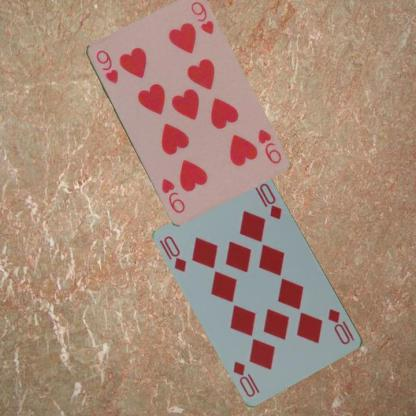10d: (325, 306, 356, 346), (158, 233, 188, 273)
9h: (255, 125, 282, 166), (92, 47, 119, 85)
